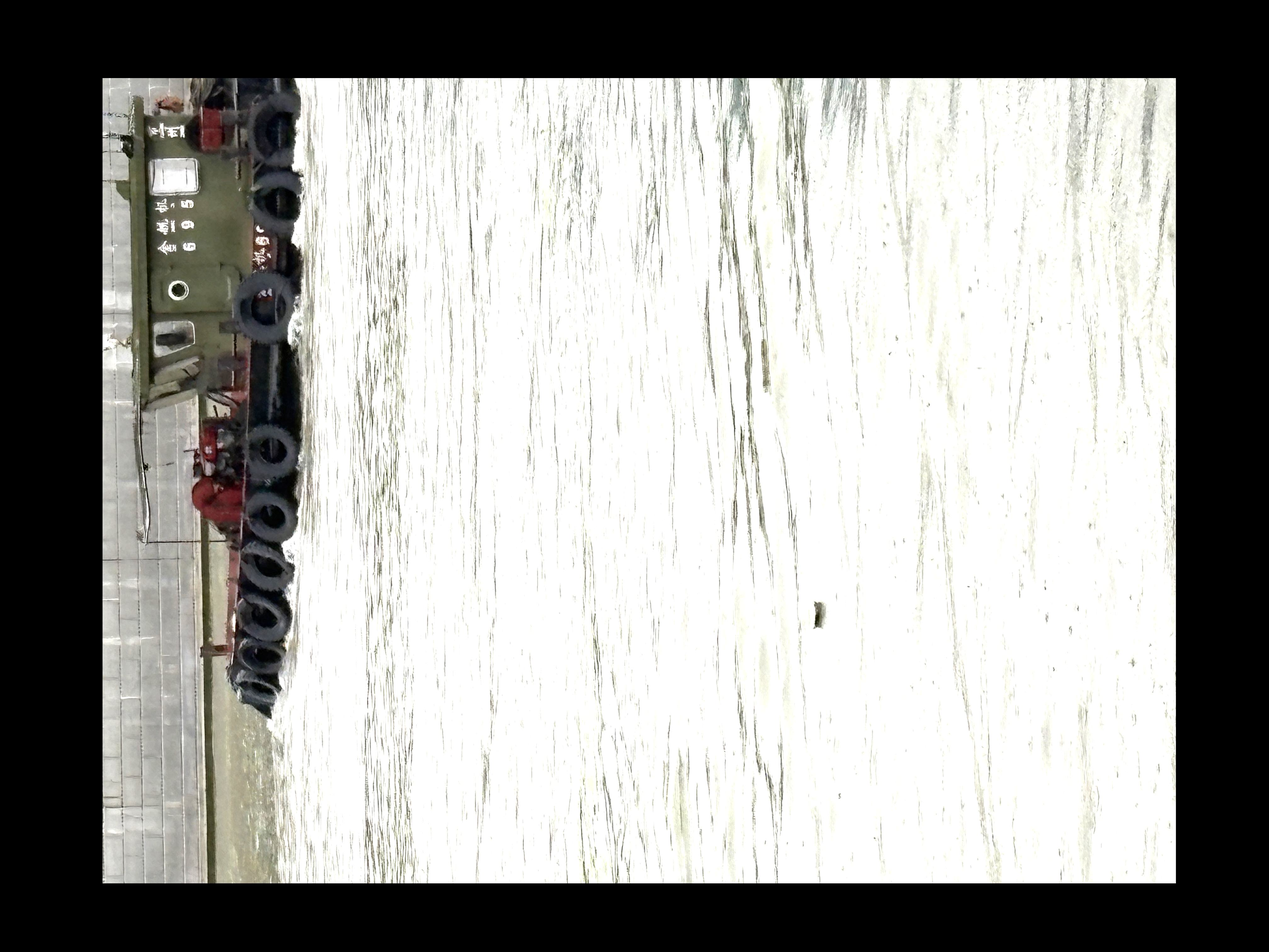Plastic wastes: (783, 313, 799, 369), (841, 580, 858, 608)
